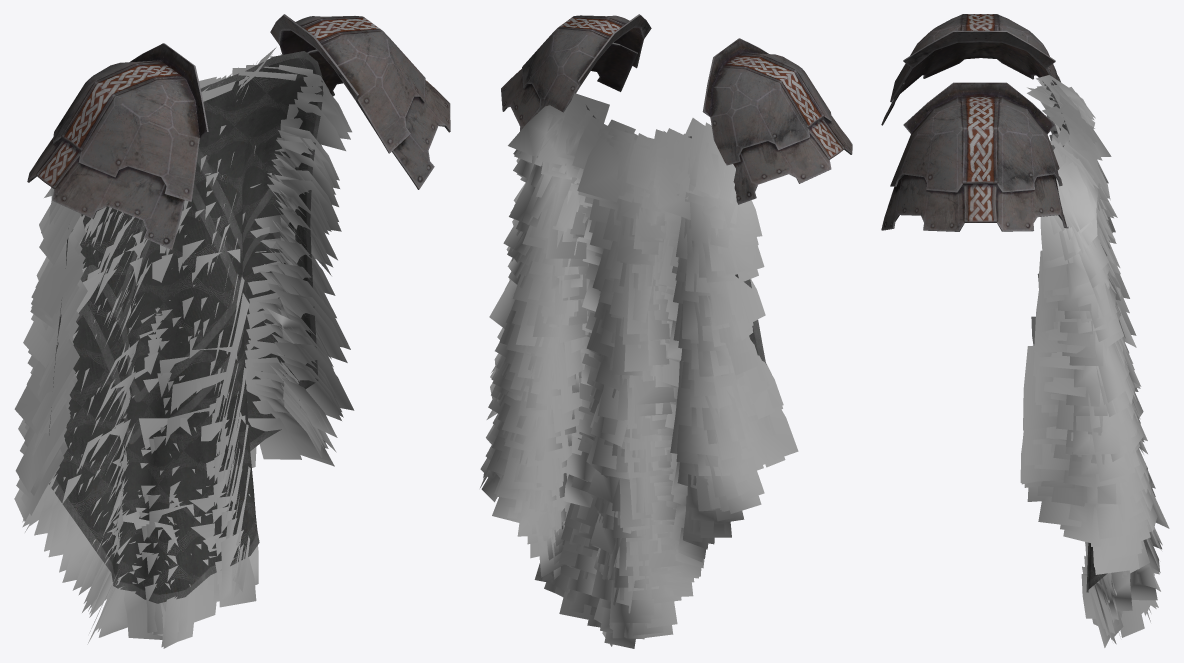
File: sk_dwarf_iron_pauldron_heavy_cape_c.fbx
The picture shows the model from 3 angles, left to right: view 1: azimuth 30°, elevation 25°; view 2: azimuth 150°, elevation 25°; view 3: azimuth 270°, elevation 25°; orthographic projection. The views are drawn at different scales.
Parts seen in each view (by area): view 1: sk_dwarf_iron_pauldron_heavy_cape_c.cape.1, sk_dwarf_iron_pauldron_heavy_cape_c.cape.0, sk_dwarf_iron_pauldron_heavy_cape_c; view 2: sk_dwarf_iron_pauldron_heavy_cape_c.cape.1, sk_dwarf_iron_pauldron_heavy_cape_c; view 3: sk_dwarf_iron_pauldron_heavy_cape_c.cape.1, sk_dwarf_iron_pauldron_heavy_cape_c, sk_dwarf_iron_pauldron_heavy_cape_c.cape.0.
Part boxes in pixels (x1,y1,x2,y2): sk_dwarf_iron_pauldron_heavy_cape_c.cape.1: (14, 47, 354, 648); sk_dwarf_iron_pauldron_heavy_cape_c.cape.0: (49, 51, 323, 603); sk_dwarf_iron_pauldron_heavy_cape_c: (27, 14, 450, 249); sk_dwarf_iron_pauldron_heavy_cape_c.cape.1: (480, 93, 798, 648); sk_dwarf_iron_pauldron_heavy_cape_c: (501, 14, 852, 204); sk_dwarf_iron_pauldron_heavy_cape_c.cape.1: (1020, 75, 1169, 647); sk_dwarf_iron_pauldron_heavy_cape_c: (881, 14, 1068, 231); sk_dwarf_iron_pauldron_heavy_cape_c.cape.0: (1042, 81, 1107, 592).
Bounding box in the file's own units: 0.7125 × 0.5124 × 1.13.
